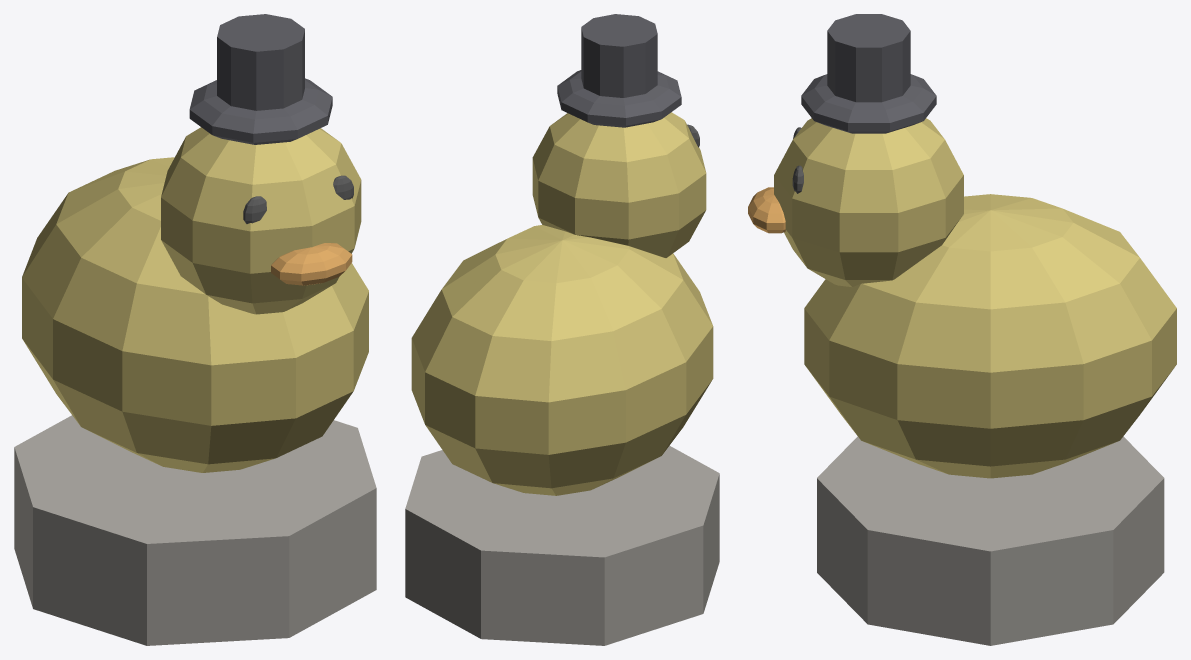
The model's file is DuckStatue.fbx.
The picture shows the model from 3 angles, left to right: view 1: azimuth 30°, elevation 25°; view 2: azimuth 150°, elevation 25°; view 3: azimuth 270°, elevation 25°; orthographic projection. The views are drawn at different scales.
Visible parts, largest first — view 1: Prop_DuckStatue; view 2: Prop_DuckStatue; view 3: Prop_DuckStatue.
Part boxes in pixels (x1,y1,x2,y2): Prop_DuckStatue: (14,14,376,645); Prop_DuckStatue: (405,14,719,645); Prop_DuckStatue: (748,14,1176,645).
Size of the model in its own units: 1 by 1.72 by 1.23.
